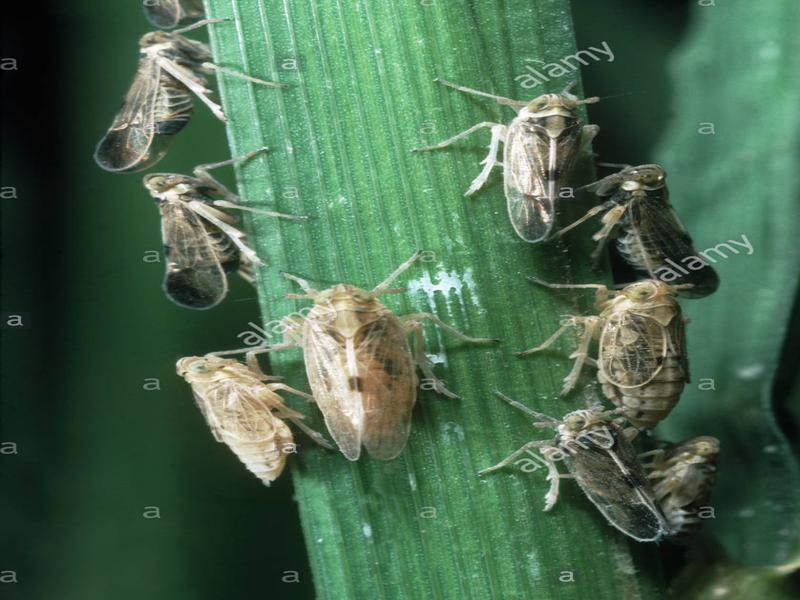White_backed_plant_hopper: (295, 283, 433, 462), (77, 28, 225, 169), (540, 408, 677, 550), (467, 91, 587, 244), (597, 157, 723, 298), (135, 176, 263, 312), (164, 346, 289, 484), (596, 284, 693, 426)
